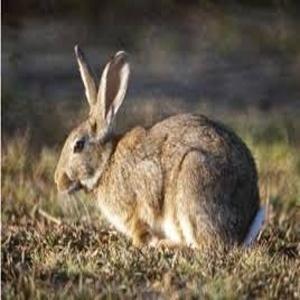rabbit: (53, 45, 265, 253)
